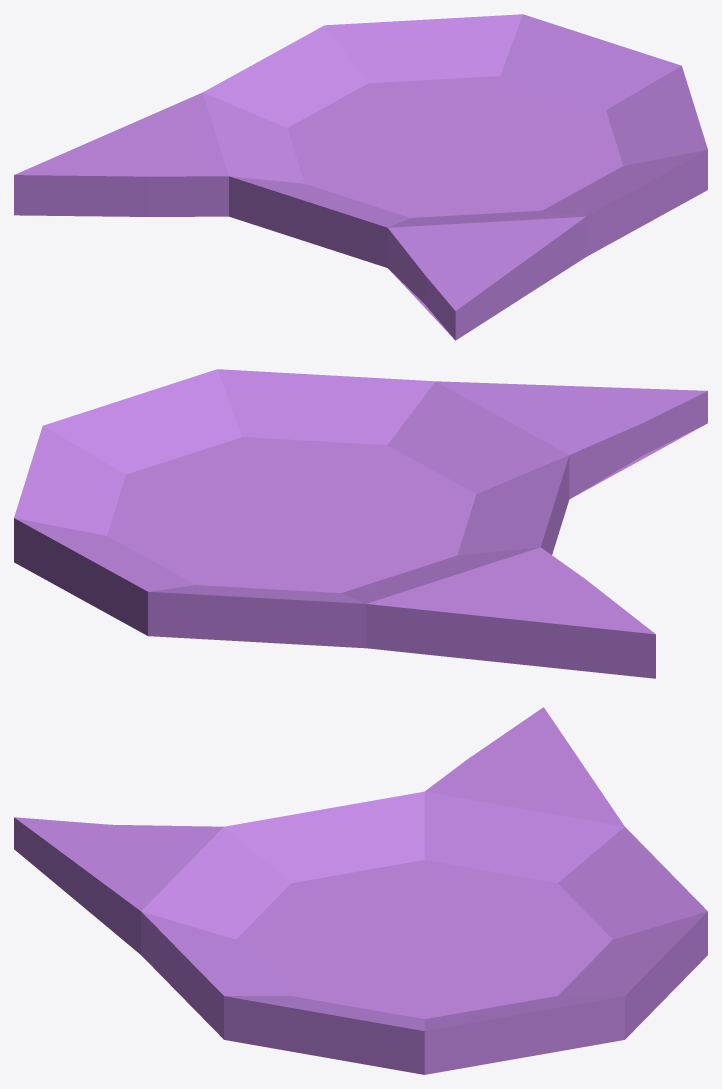
File: Plato michi.fbx
The picture shows the model from 3 angles, top to bottom: view 1: azimuth 30°, elevation 25°; view 2: azimuth 150°, elevation 25°; view 3: azimuth 270°, elevation 25°; orthographic projection. The views are drawn at different scales.
Parts seen in each view (by area): view 1: Cylinder; view 2: Cylinder; view 3: Cylinder.
Part boxes in pixels (x1,y1,x2,y2): Cylinder: (14,14,707,340); Cylinder: (14,369,707,678); Cylinder: (14,707,707,1074).
Size of the model in its own units: 302 by 31.32 by 273.
